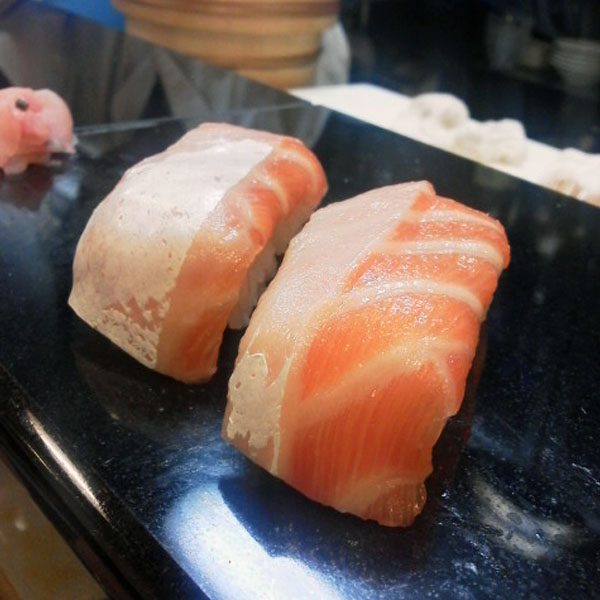salmon: (225, 179, 510, 533)
